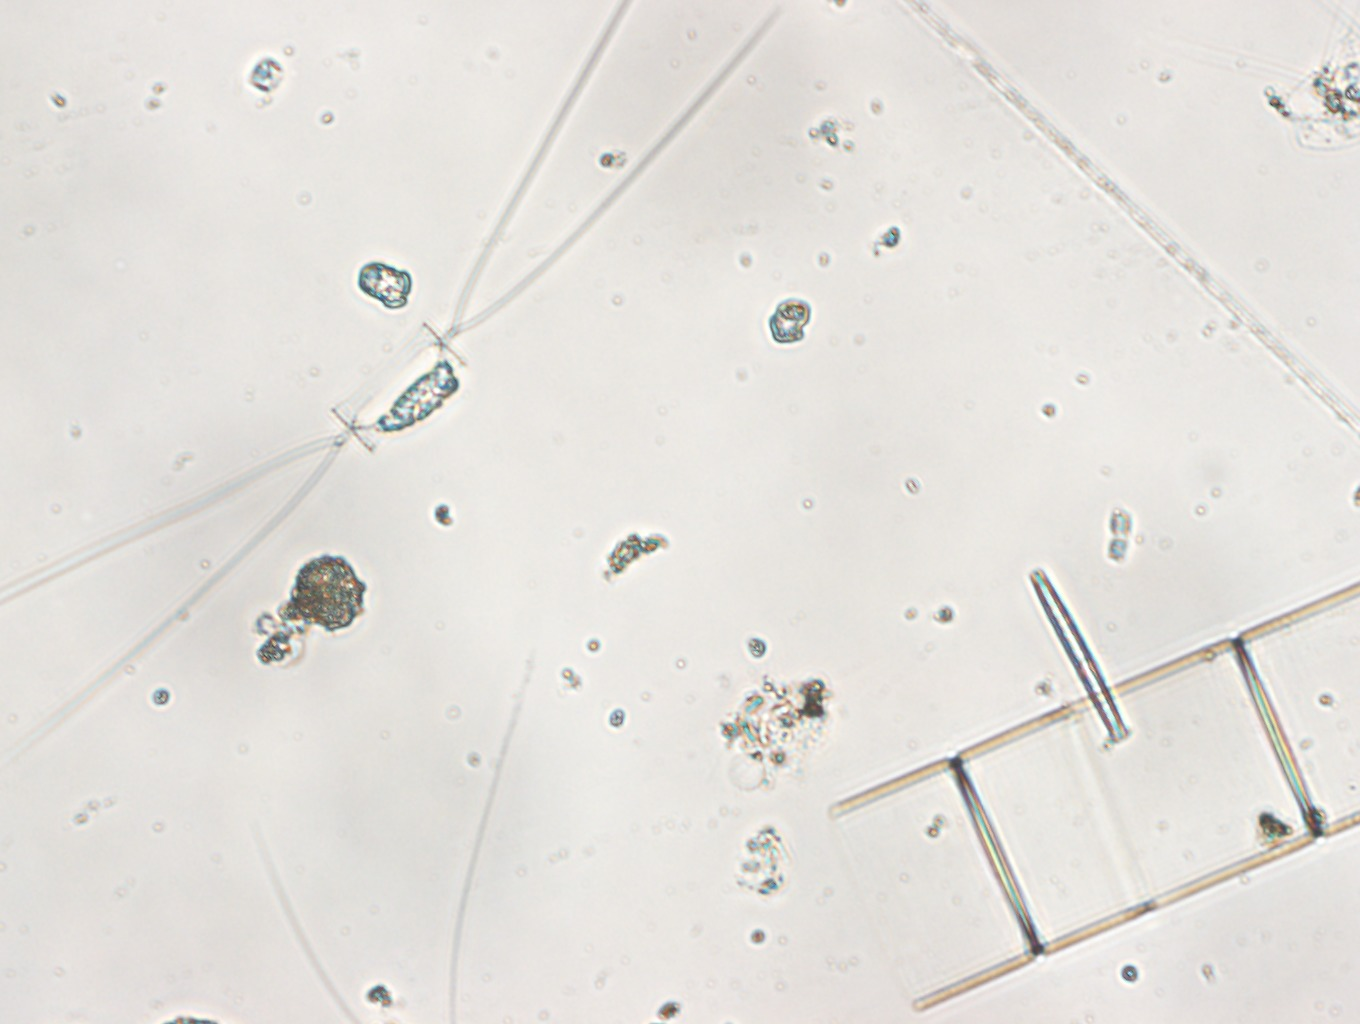chaetoceros: (13, 1, 765, 765)
guinardia flaccida: (813, 595, 1360, 1009)
